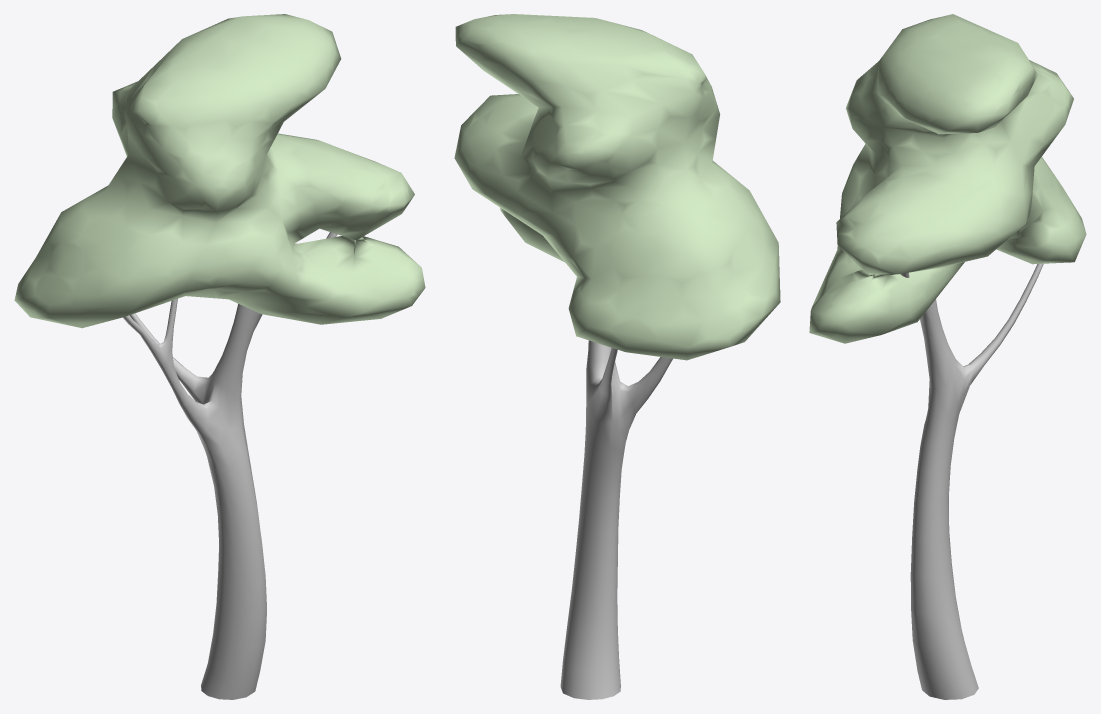
File: stylized-tree-04.fbx
3 renders of one model, left to right at view 1: azimuth 30°, elevation 25°; view 2: azimuth 150°, elevation 25°; view 3: azimuth 270°, elevation 25°, orthographic. The views are drawn at different scales.
Parts seen in each view (by area): view 1: Tree_04_leaves, Tree_04_bark; view 2: Tree_04_leaves, Tree_04_bark; view 3: Tree_04_leaves, Tree_04_bark.
Part boxes in pixels (x1=…): Tree_04_leaves: x1=14, y1=14, x2=425, y2=328; Tree_04_bark: x1=123, y1=232, x2=337, y2=699; Tree_04_leaves: x1=454, y1=14, x2=780, y2=360; Tree_04_bark: x1=560, y1=340, x2=672, y2=699; Tree_04_leaves: x1=809, y1=14, x2=1086, y2=343; Tree_04_bark: x1=900, y1=263, x2=1043, y2=699.
Bounding box in the file's own units: 242 × 447 × 172.
